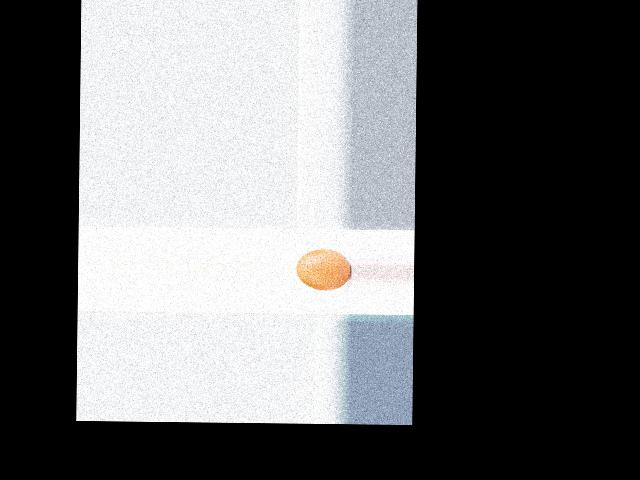egg: (296, 249, 351, 291)
